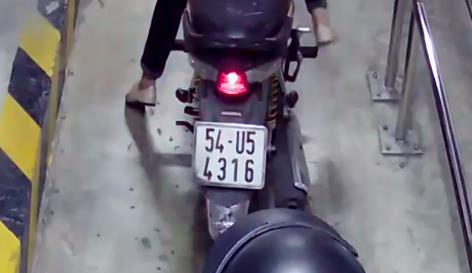lisence: (193, 121, 267, 190)
